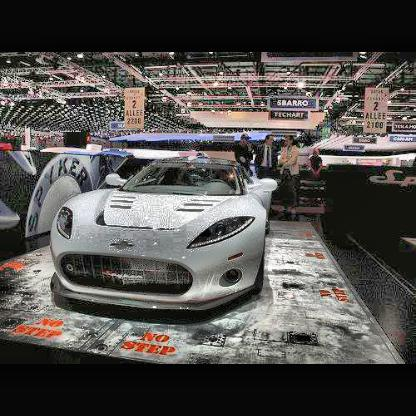Spyker C8 Coupe 2009: (47, 148, 281, 321)
